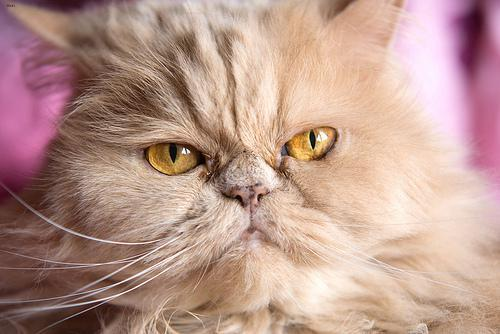cat: (7, 0, 500, 334)
